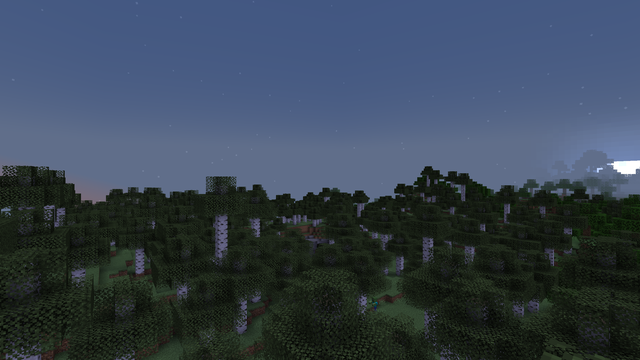zombies: (371, 296, 377, 309)
